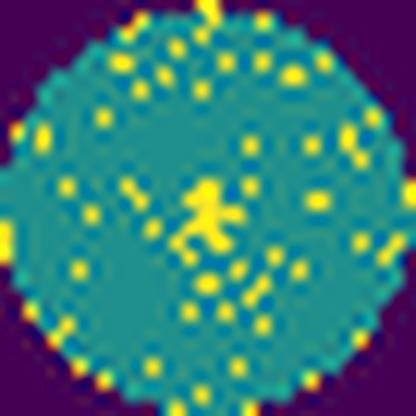Center: (181, 178, 246, 249)
